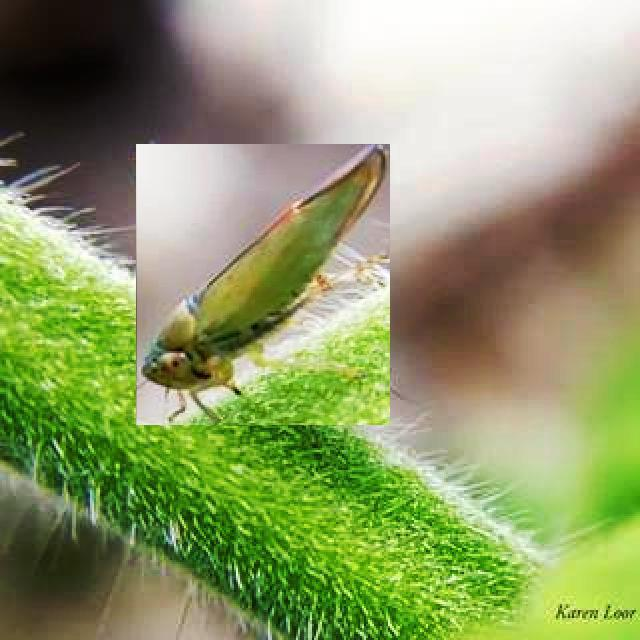green-leafhopper: (138, 145, 390, 425)
